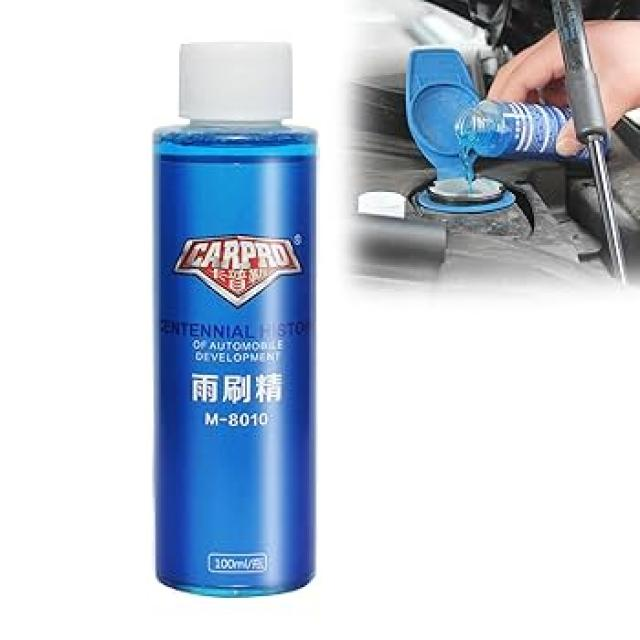winwinshield_washer: (149, 36, 319, 604)
